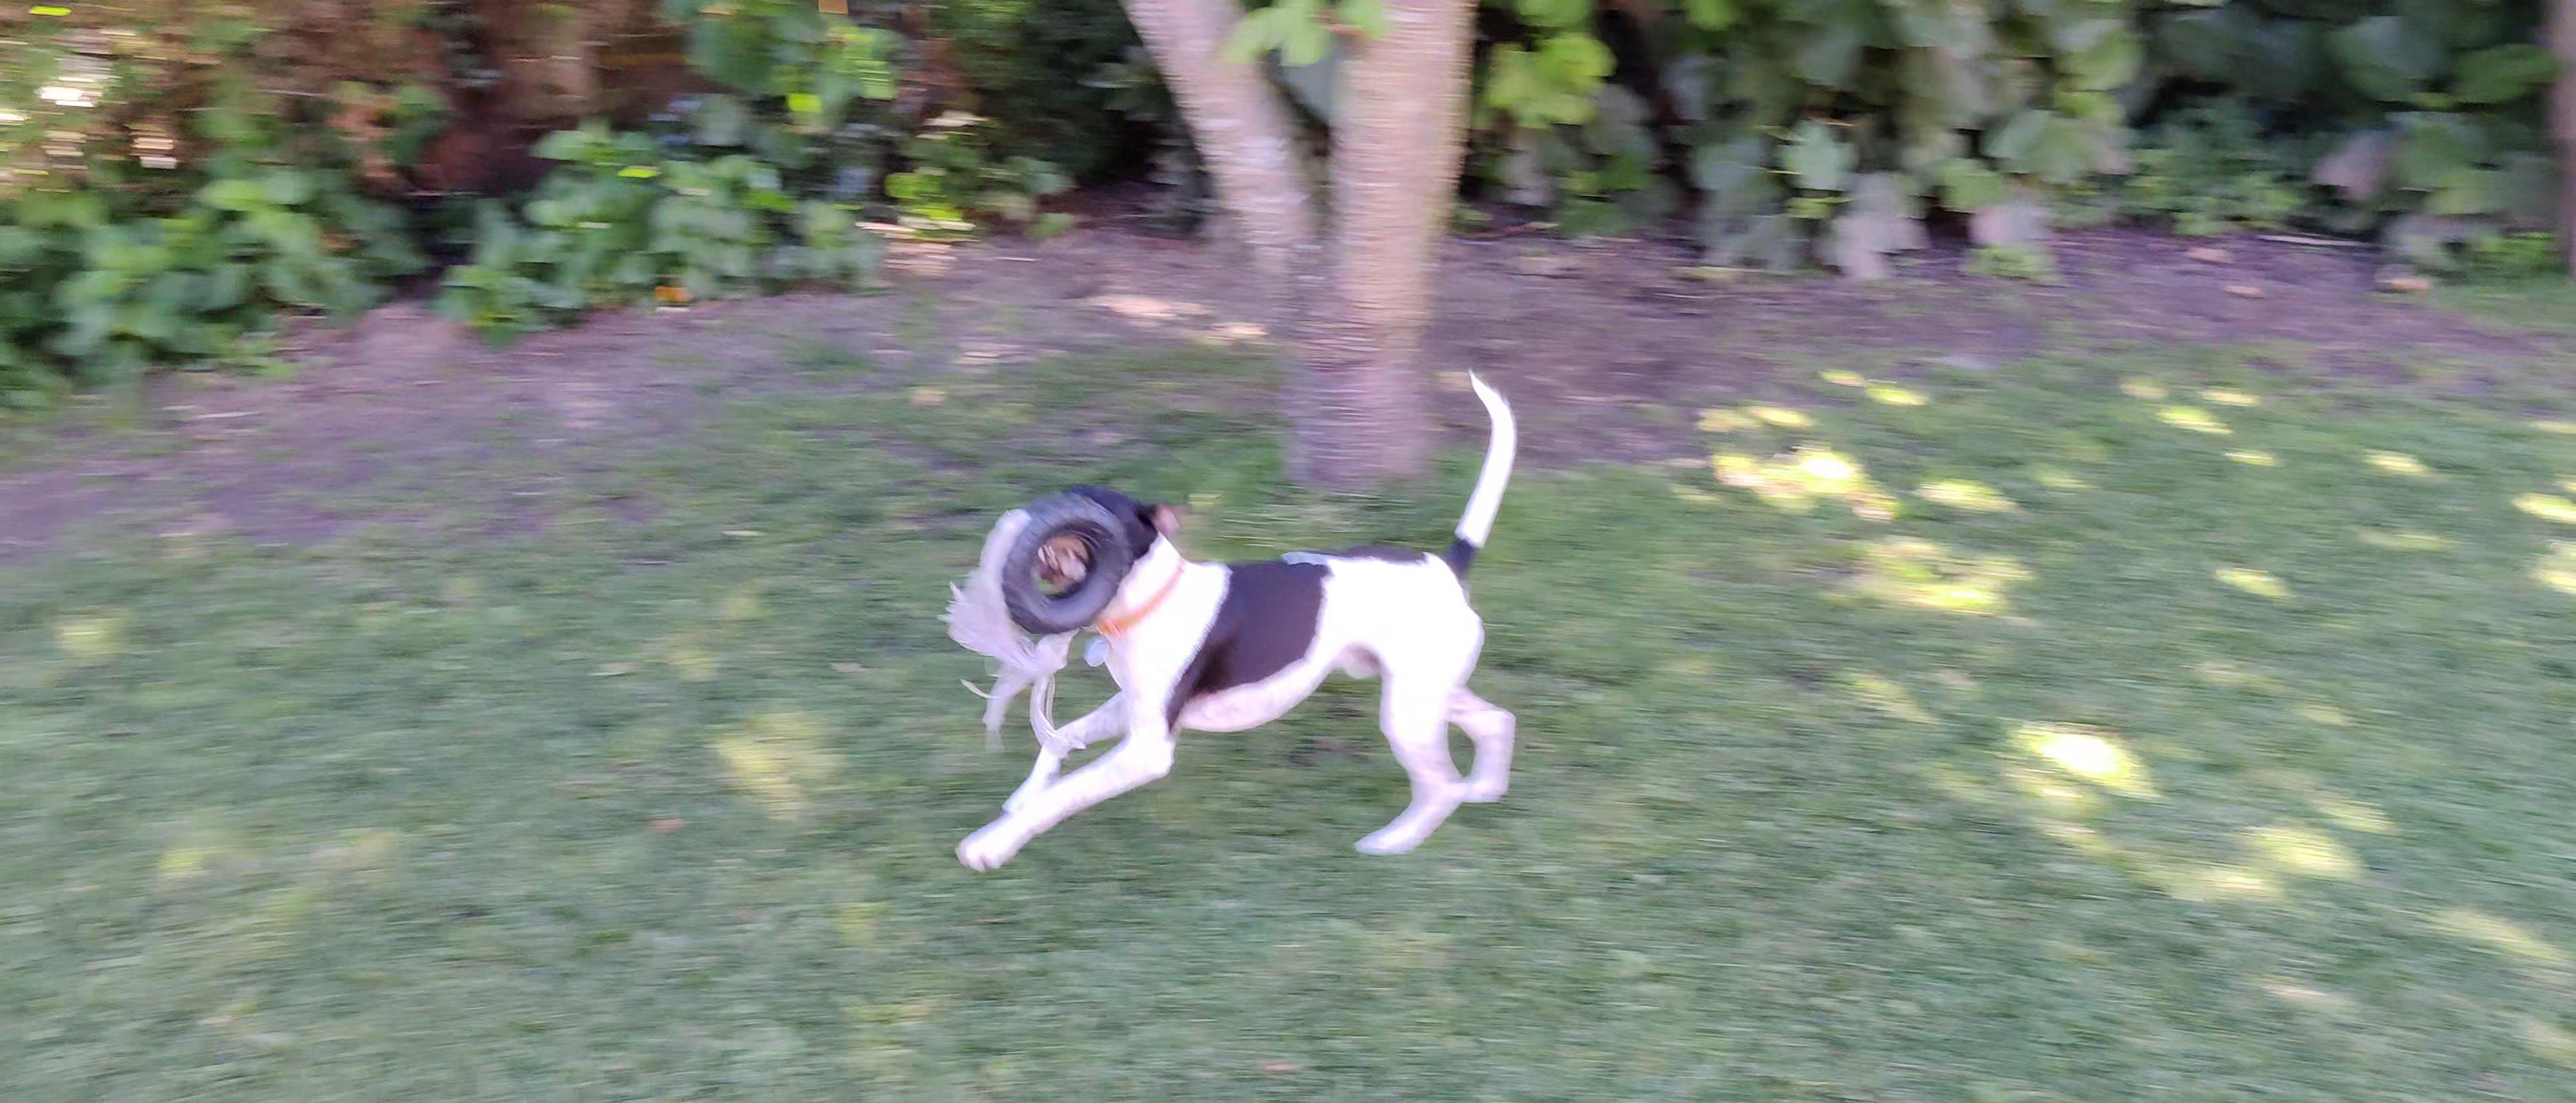Dog: (920, 363, 1544, 873)
